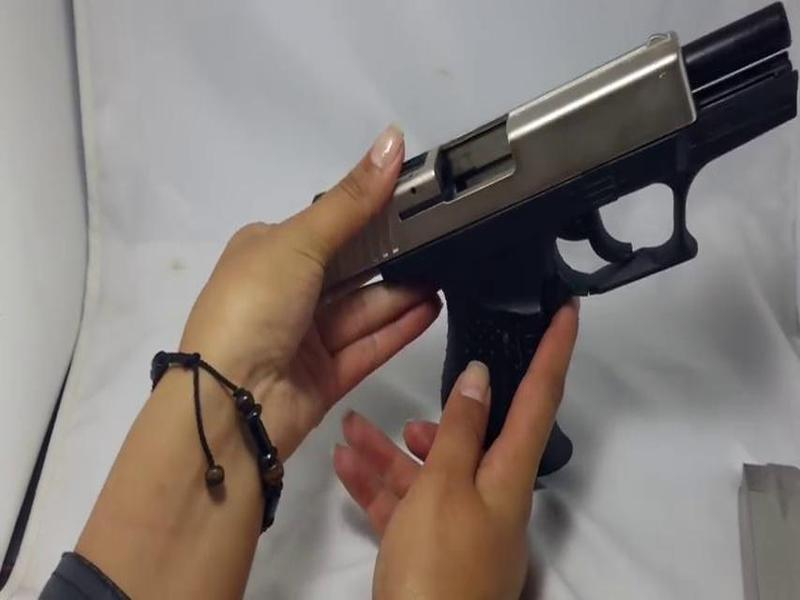Pistola: (267, 7, 800, 485)
